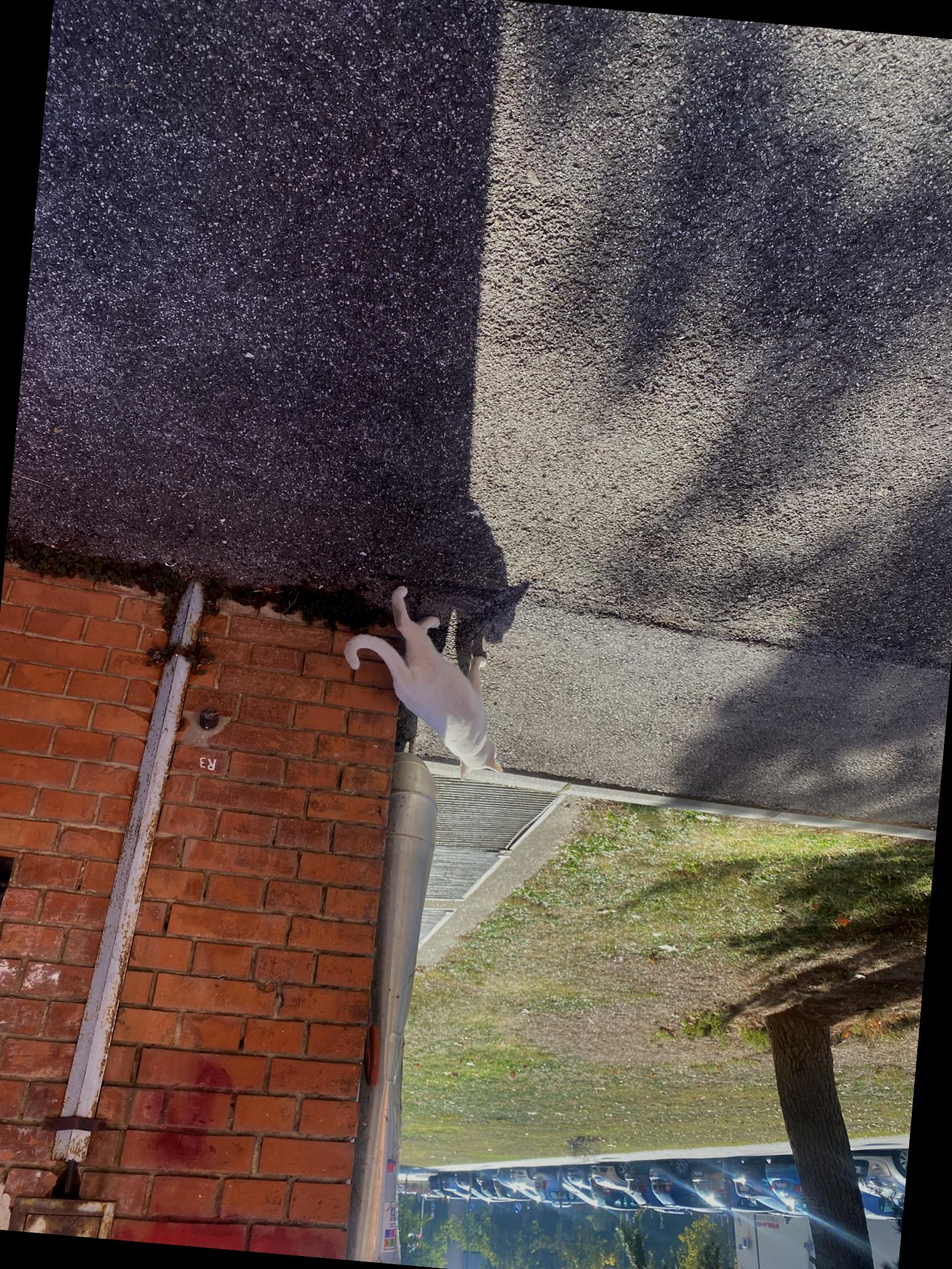macka: (333, 580, 517, 785)
